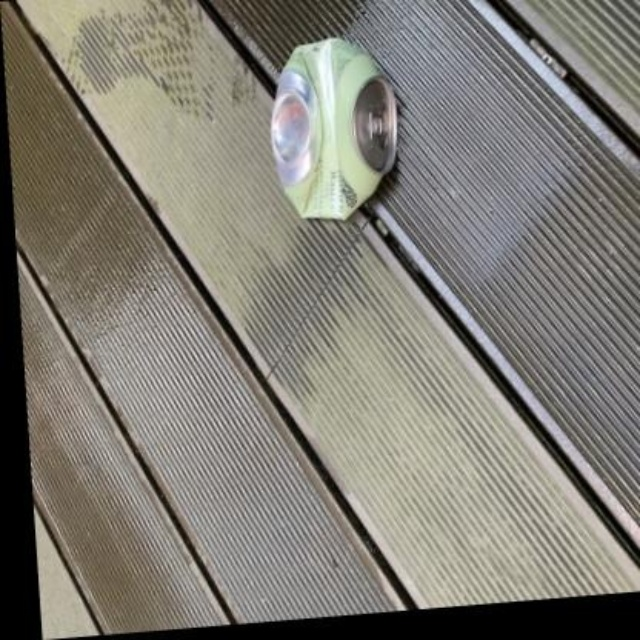trash: (271, 38, 395, 218)
